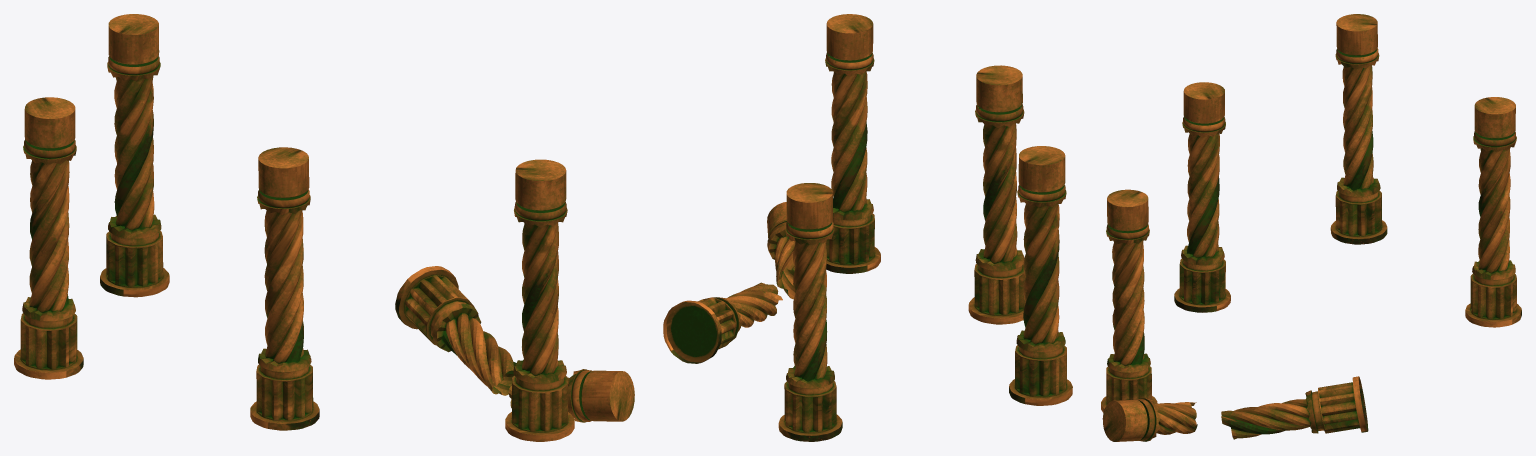
File: Column.glb
3 renders of one model, left to right at view 1: azimuth 30°, elevation 25°; view 2: azimuth 150°, elevation 25°; view 3: azimuth 270°, elevation 25°, orthographic. The views are drawn at different scales.
Visible parts, largest first — view 1: Column_3, Column_4, Column_2, Column_1, Column_0; view 2: Column_3, Column_4, Column_2, Column_1, Column_0; view 3: Column_2, Column_4, Column_0, Column_3, Column_1.
Part boxes in pixels (x1,y1,x2,y2): Column_3: [14, 97, 83, 379]; Column_4: [100, 14, 169, 297]; Column_2: [250, 147, 319, 430]; Column_1: [505, 159, 574, 441]; Column_0: [395, 266, 634, 422]; Column_3: [1009, 146, 1072, 405]; Column_4: [778, 183, 842, 441]; Column_2: [968, 65, 1025, 324]; Column_1: [825, 14, 880, 273]; Column_0: [663, 202, 795, 363]; Column_2: [1174, 82, 1230, 312]; Column_4: [1465, 97, 1521, 327]; Column_0: [1102, 376, 1368, 441]; Column_3: [1330, 14, 1387, 244]; Column_1: [1101, 189, 1157, 412].
Bounding box in the file's own units: 7.69 × 5.07 × 7.29.
1 material, 1 textured.
